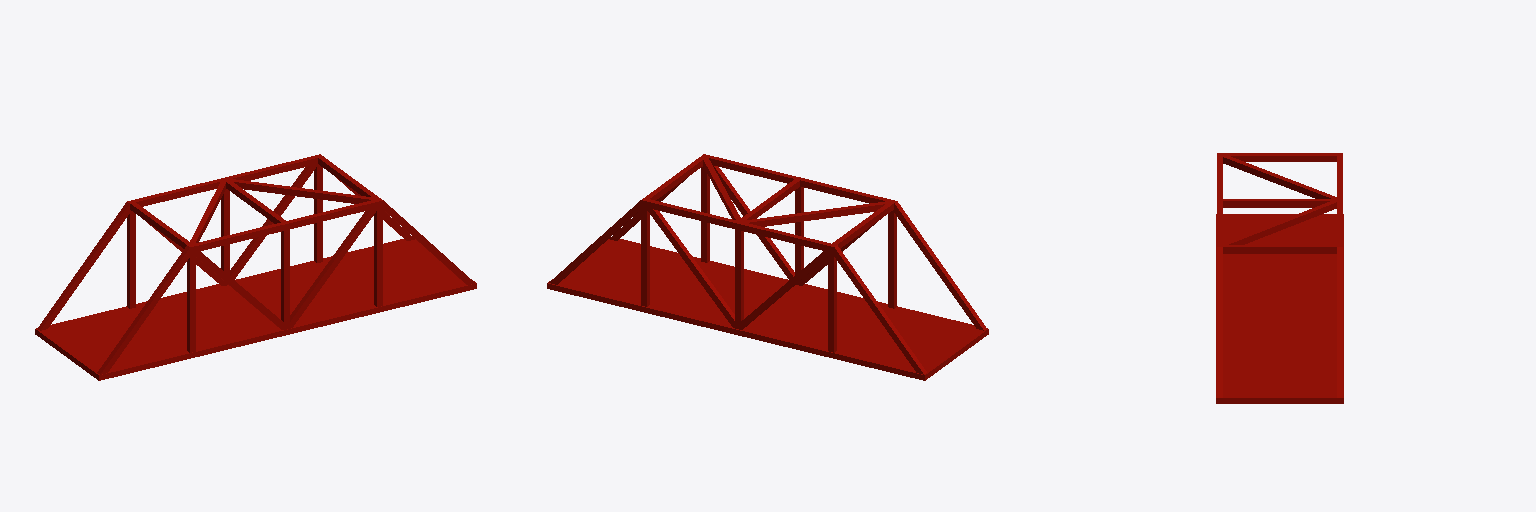
File: smalltrussbridge.obj
3 renders of one model, left to right at view 1: azimuth 30°, elevation 25°; view 2: azimuth 150°, elevation 25°; view 3: azimuth 270°, elevation 25°, orthographic.
Parts seen in each view (by area): view 1: Cube_Cube.001; view 2: Cube_Cube.001; view 3: Cube_Cube.001.
Boxes of the visible parts, x1,y1,x2,y2 form: Cube_Cube.001: [35, 154, 476, 380]; Cube_Cube.001: [547, 154, 988, 380]; Cube_Cube.001: [1216, 153, 1343, 403].
Bounding box in the file's own units: 14.76 × 4.14 × 4.33.